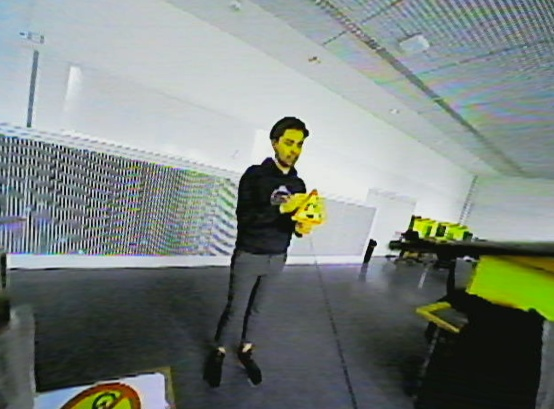roundabout_warning: (291, 186, 327, 229)
